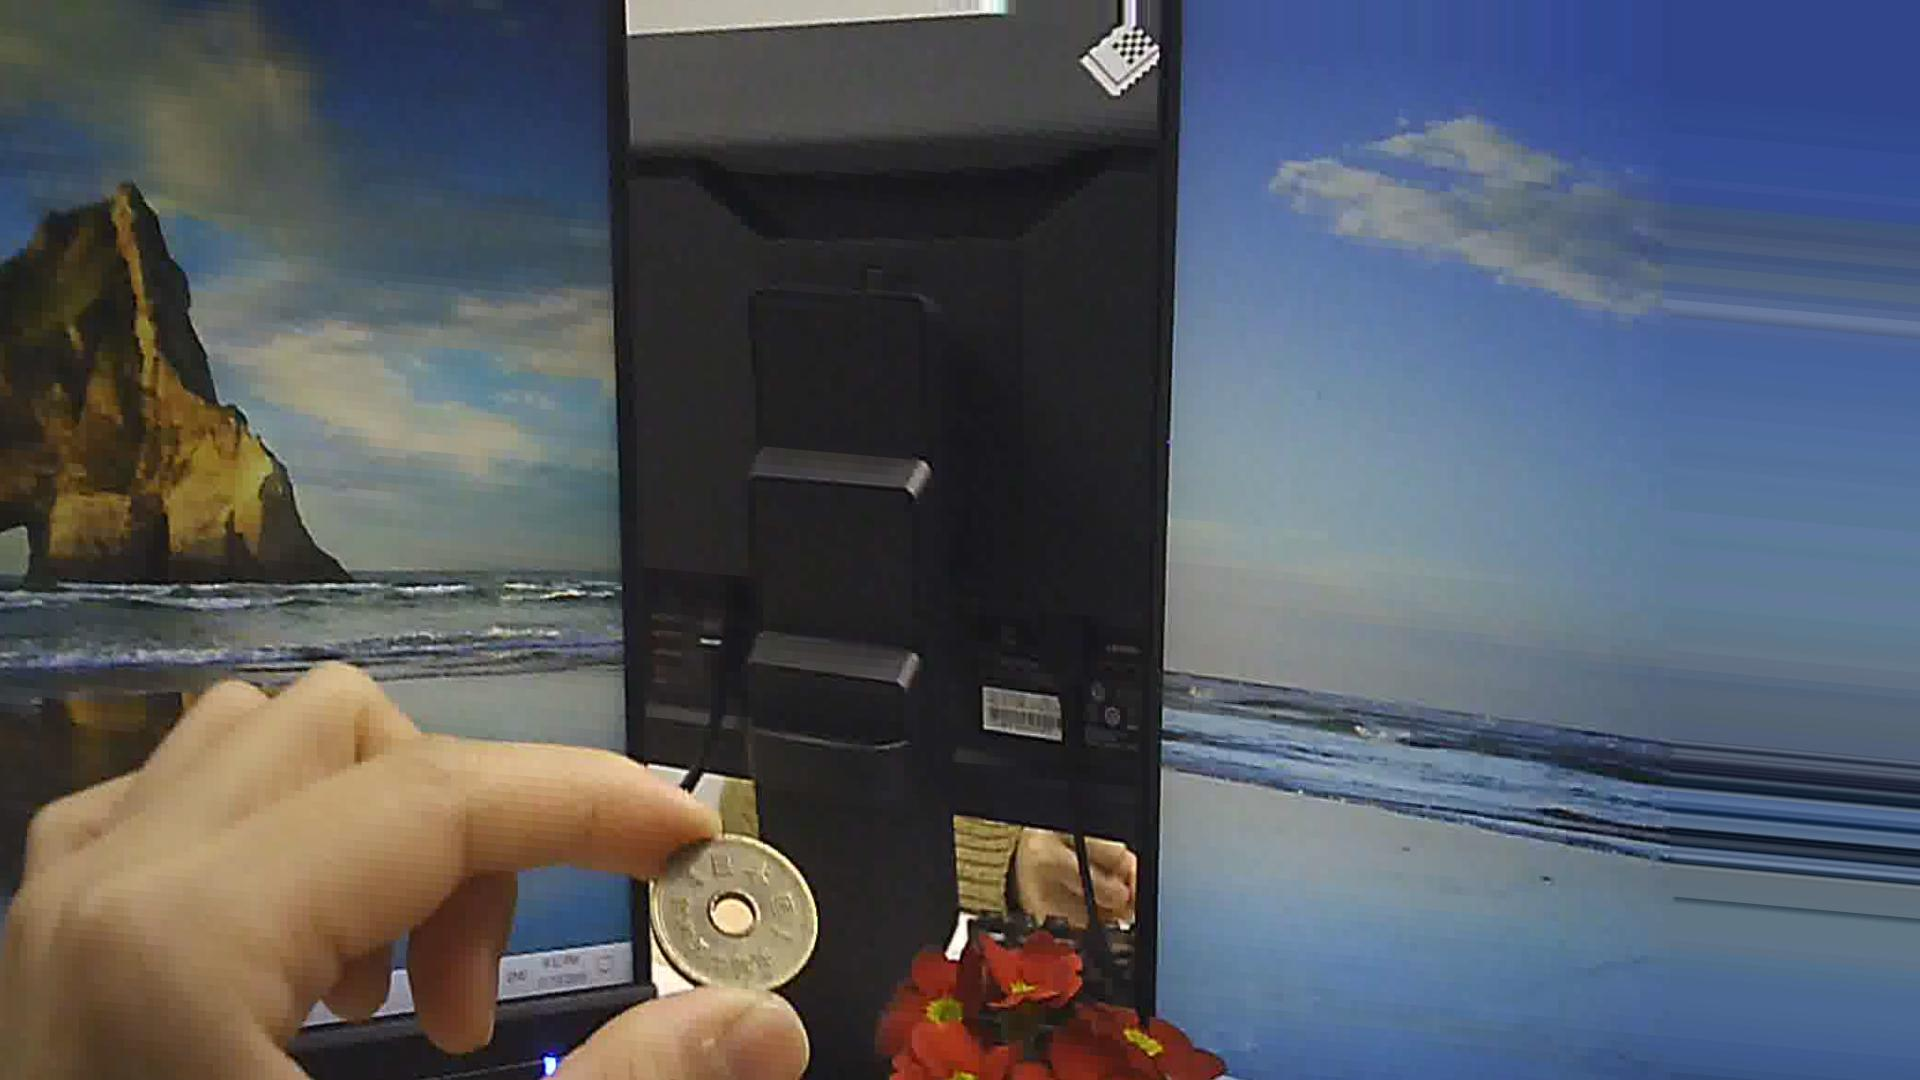5 Yen: (636, 831, 823, 1000)
